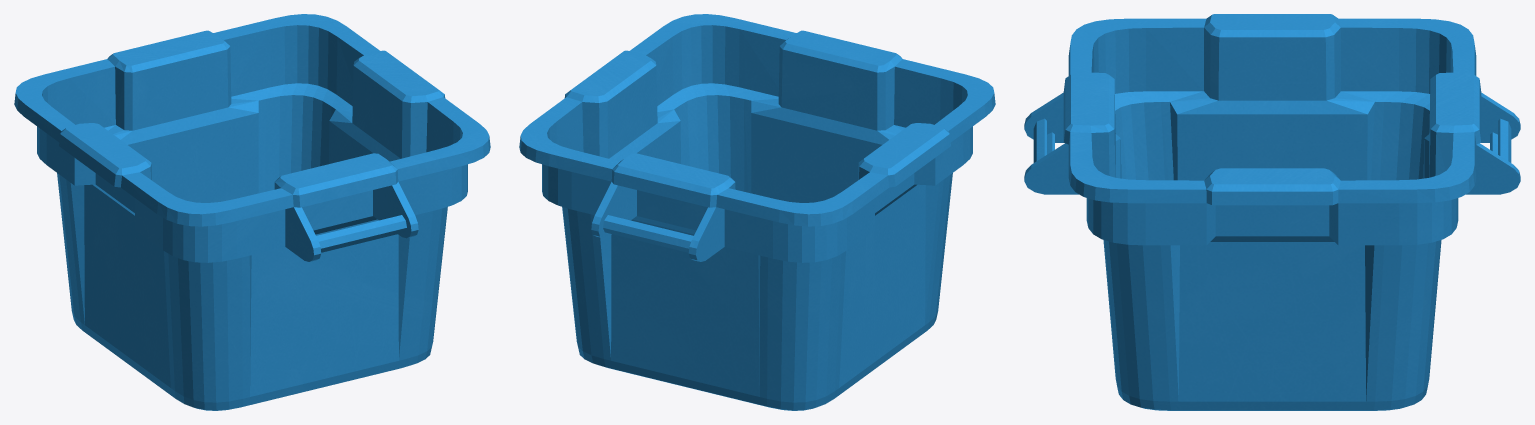
Rendered from blue_bin.dae.
3 views of the same model, side by side, from view 1: azimuth 30°, elevation 25°; view 2: azimuth 150°, elevation 25°; view 3: azimuth 270°, elevation 25° (orthographic). The views are drawn at different scales.
Parts seen in each view (by area): view 1: disposal_bin; view 2: disposal_bin; view 3: disposal_bin.
Boxes of the visible parts, box(x1,y1,x2,y2) form: disposal_bin: box(14, 14, 490, 410); disposal_bin: box(519, 14, 995, 410); disposal_bin: box(1024, 14, 1520, 410).
Bounding box in the file's own units: 0.7326 × 0.8713 × 0.4824.
1 material, 1 textured.
